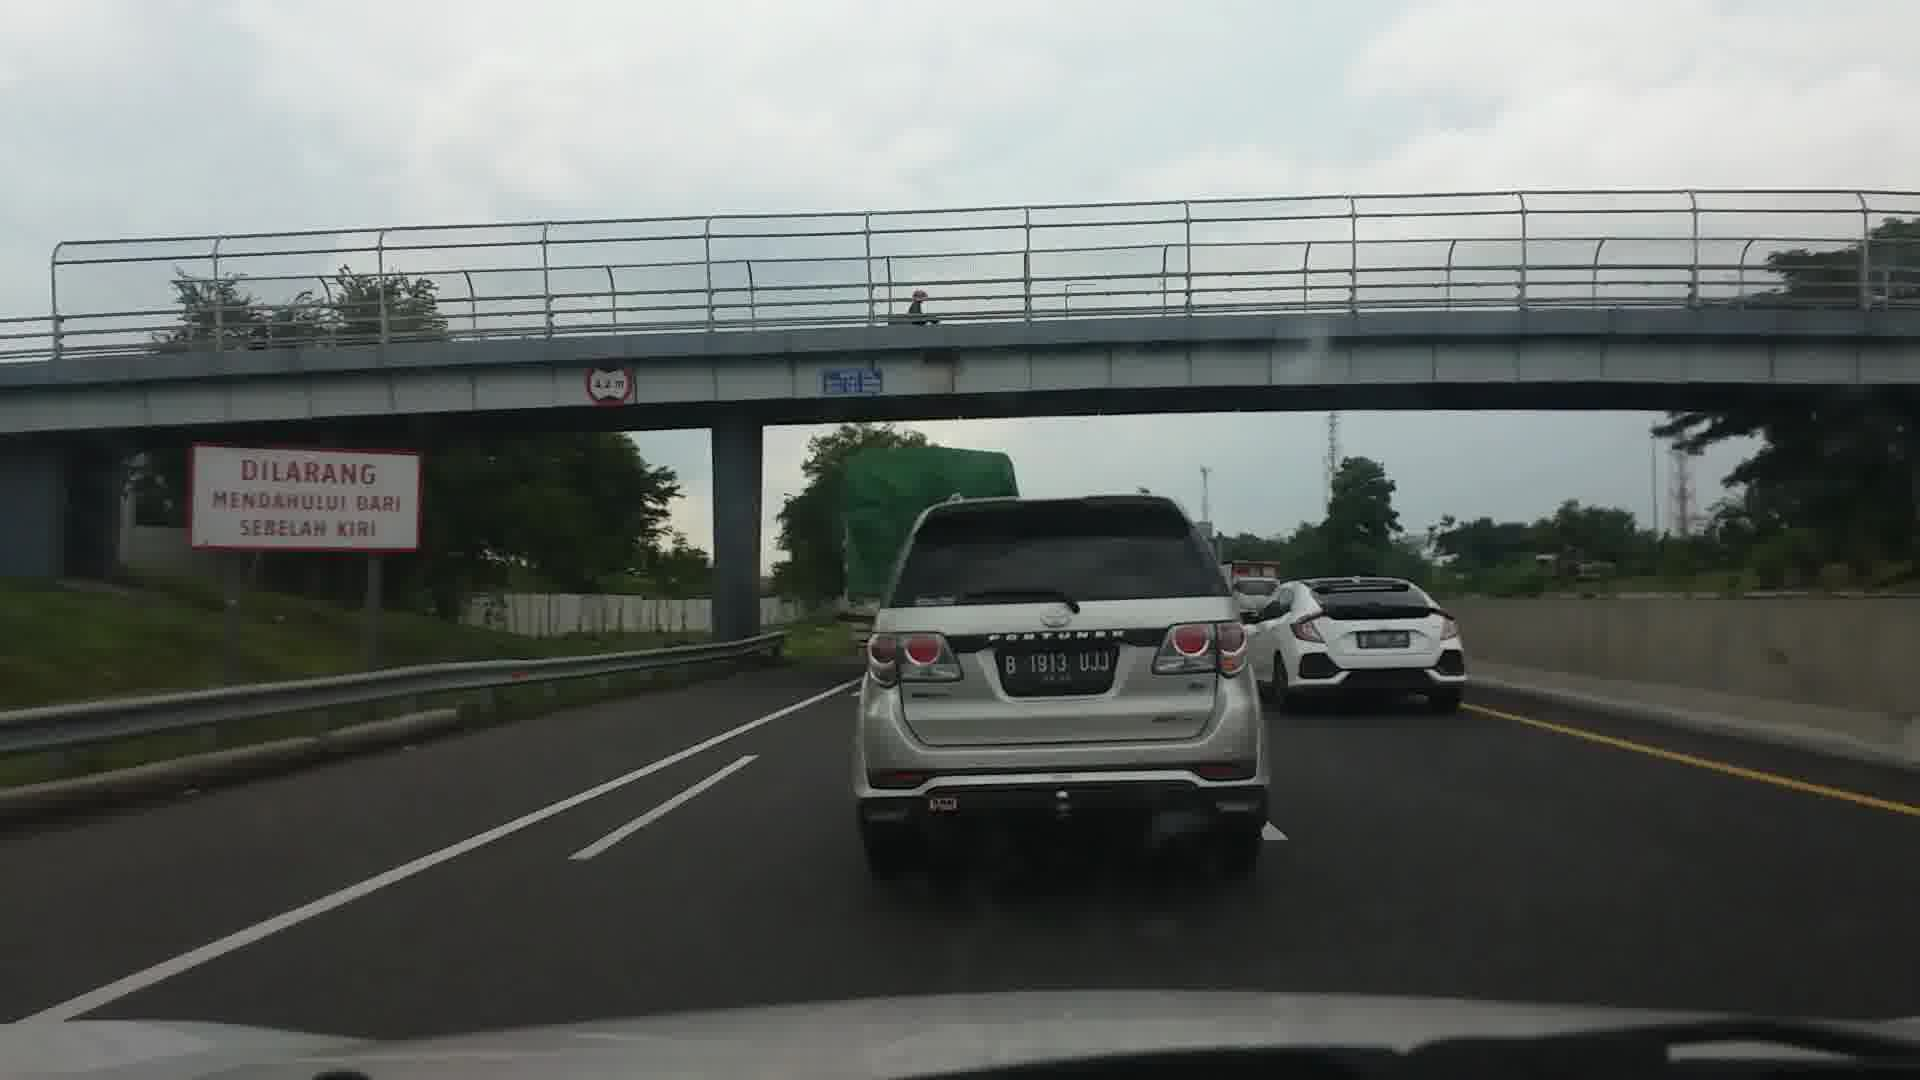plate_positive: (1001, 647, 1112, 684)
